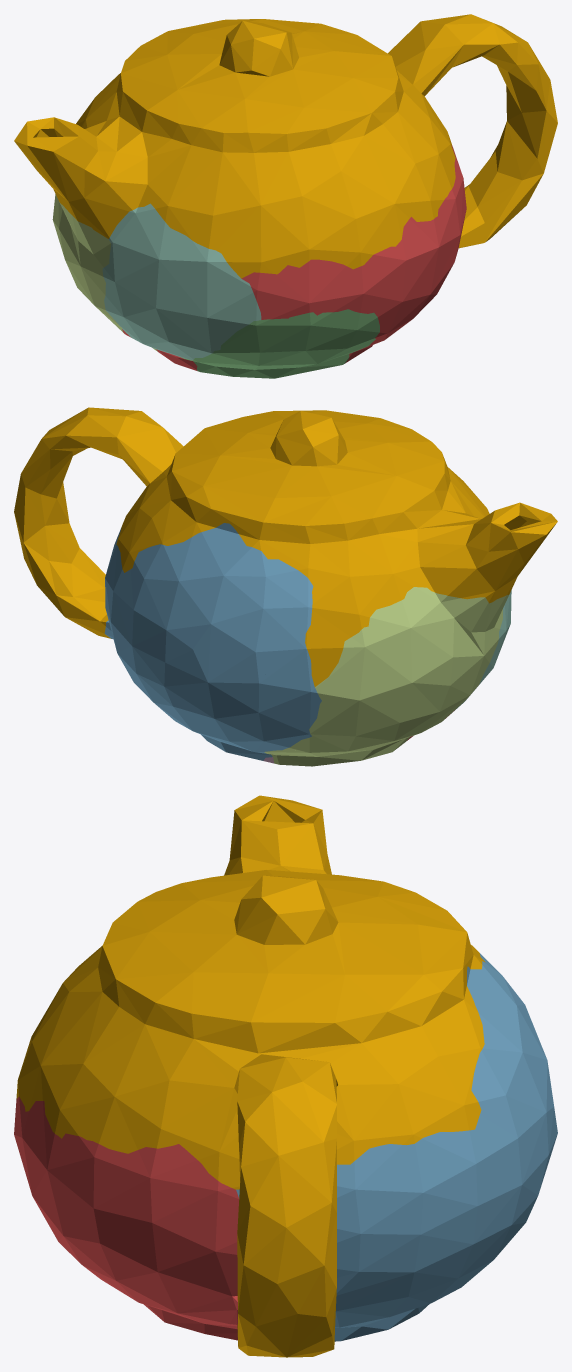
File: mode_12_8pcs.glb
The picture shows the model from 3 angles, top to bottom: view 1: azimuth 30°, elevation 25°; view 2: azimuth 150°, elevation 25°; view 3: azimuth 270°, elevation 25°; orthographic projection. The views are drawn at different scales.
Parts seen in each view (by area): view 1: piece_0.obj, piece_4.obj, piece_1.obj, piece_3.obj, piece_5.obj; view 2: piece_0.obj, piece_2.obj, piece_5.obj, piece_4.obj; view 3: piece_0.obj, piece_2.obj, piece_1.obj.
Boxes of the visible parts, x1,y1,x2,y2 form: piece_0.obj: [14, 14, 557, 278]; piece_4.obj: [102, 203, 261, 360]; piece_1.obj: [122, 145, 466, 370]; piece_3.obj: [181, 309, 379, 378]; piece_5.obj: [52, 194, 157, 351]; piece_0.obj: [14, 407, 557, 686]; piece_2.obj: [104, 523, 321, 760]; piece_5.obj: [264, 587, 508, 766]; piece_4.obj: [451, 590, 511, 713]; piece_0.obj: [16, 795, 485, 1357]; piece_2.obj: [236, 953, 557, 1341]; piece_1.obj: [14, 1096, 239, 1340].
Size of the model in its own units: 1 by 0.5443 by 0.6757.
